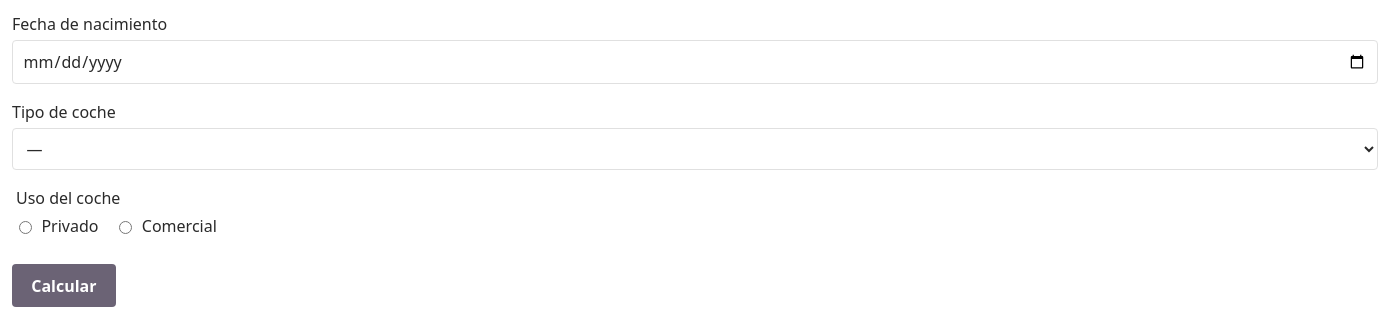
Scenario: QuoteForm › enables submit once all three valid fields are filled
Type "1992-02-24" into the date field named "driver_birthday".
click(695, 62); type("1992-02-24")  # box x1=12 y1=40 x2=1378 y2=84
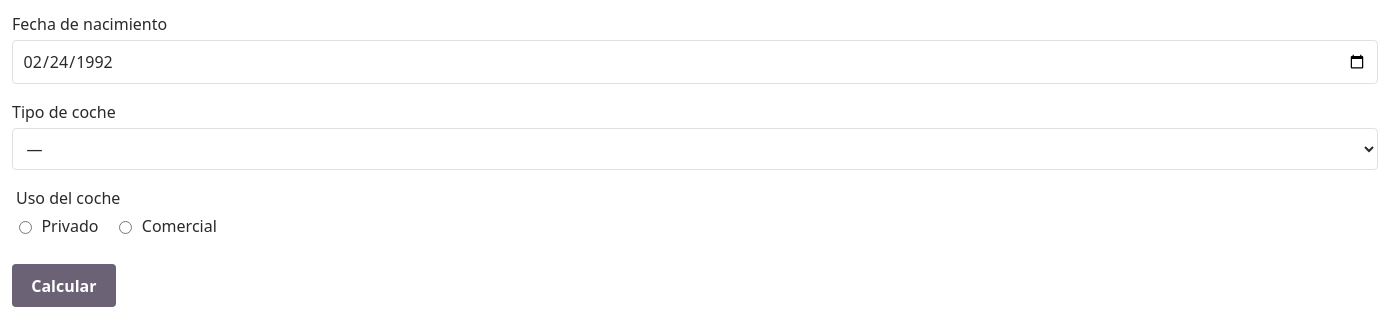
Select "Turismo" in the dropdown named "car_type" at (695, 149), box x1=12 y1=128 x2=1378 y2=170
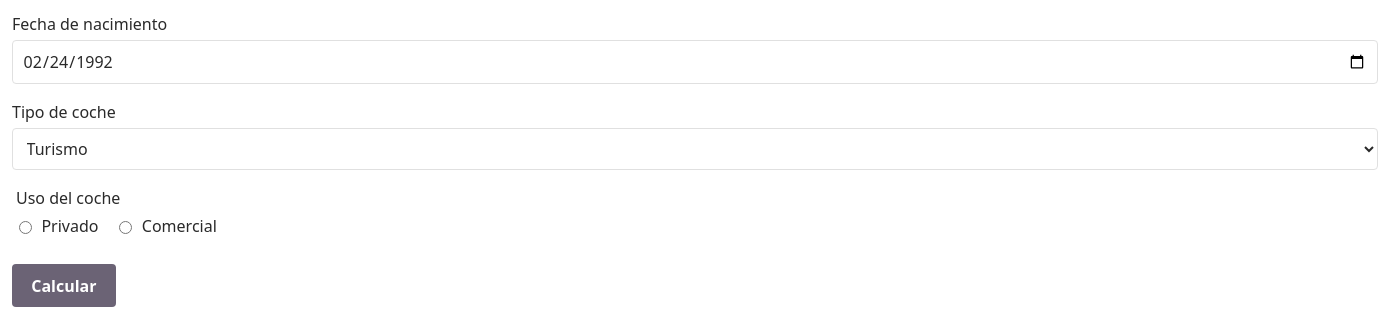
Click the radio button labelled "Privado".
click(26, 228)  # box x1=19 y1=221 x2=32 y2=234
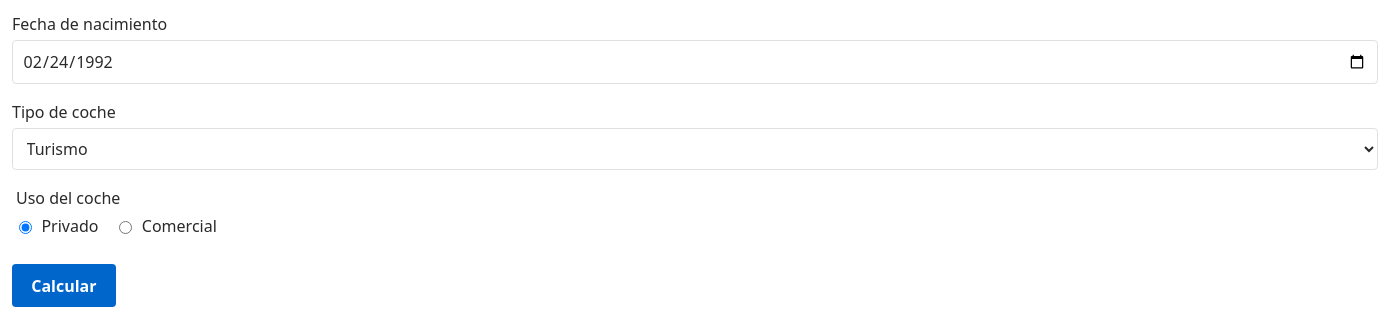
Check: the submit button is enabled, box x1=12 y1=264 x2=116 y2=307
